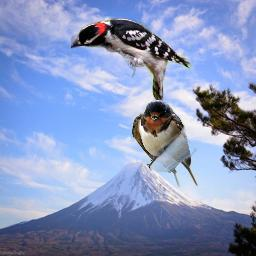Swallow: (132, 100, 198, 187)
Woodpecker: (71, 17, 194, 117)
